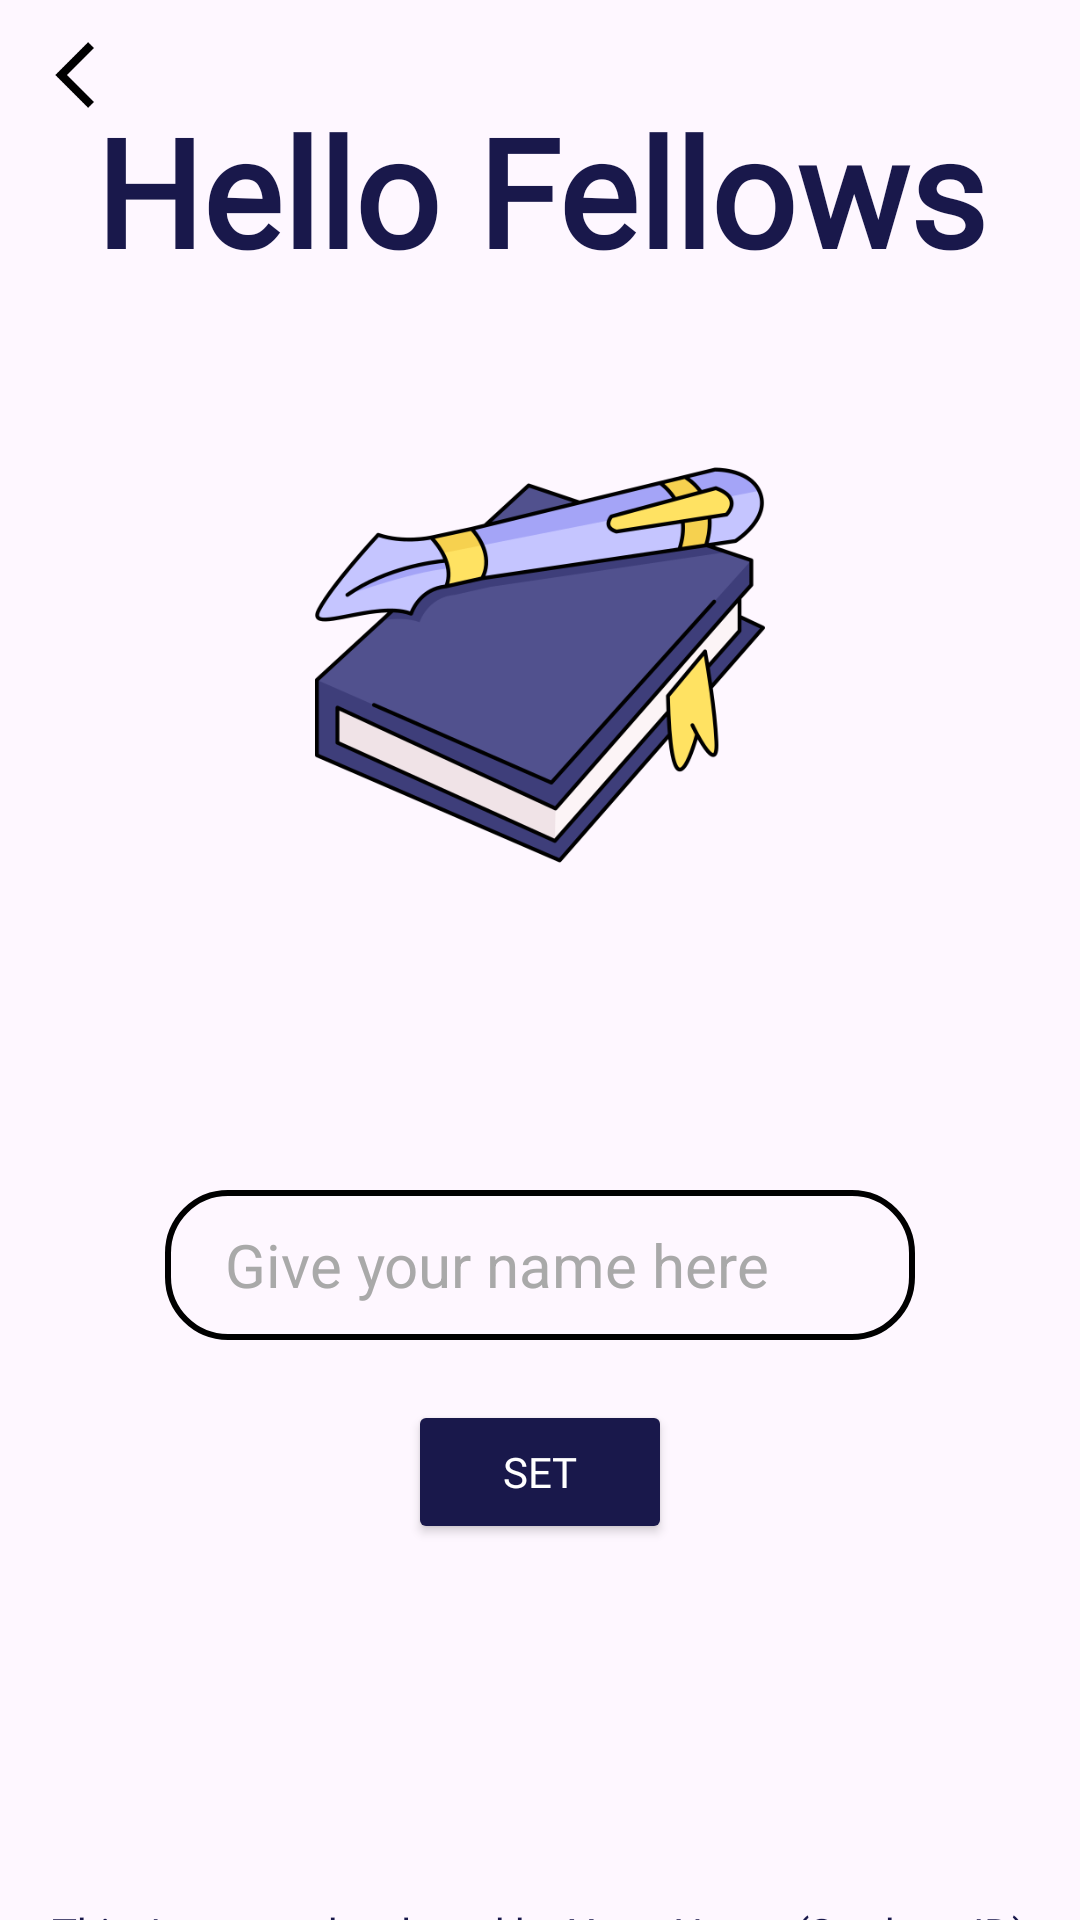

Icons on this 1080 x 1920 Android screen, each with the point to tap as (x,y):
back: (74,75)
